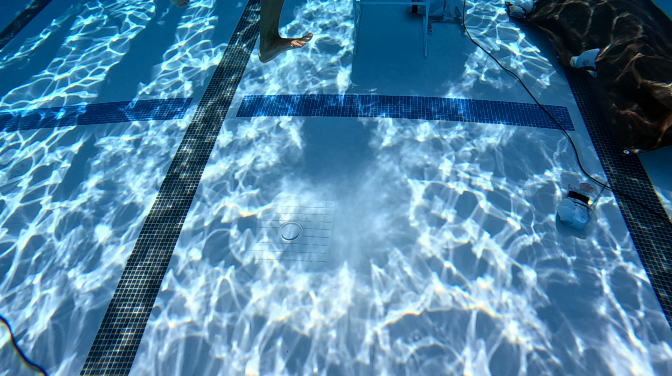sandbag: (506, 0, 671, 158)
